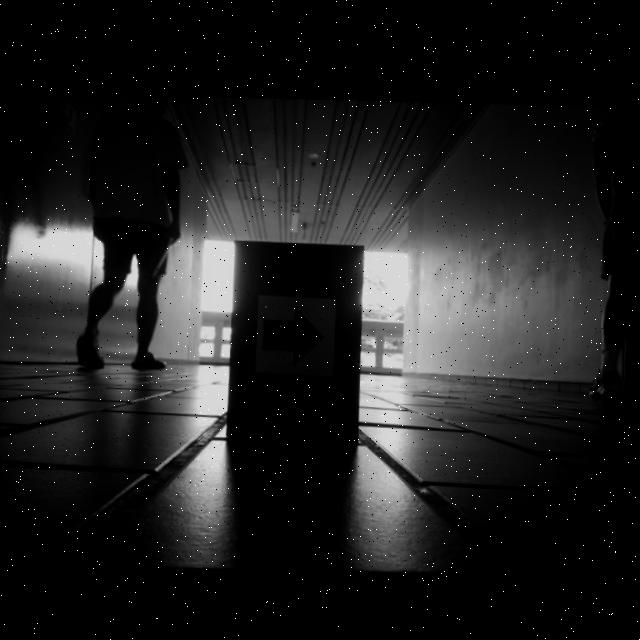RIGHT: (264, 299, 327, 364)
